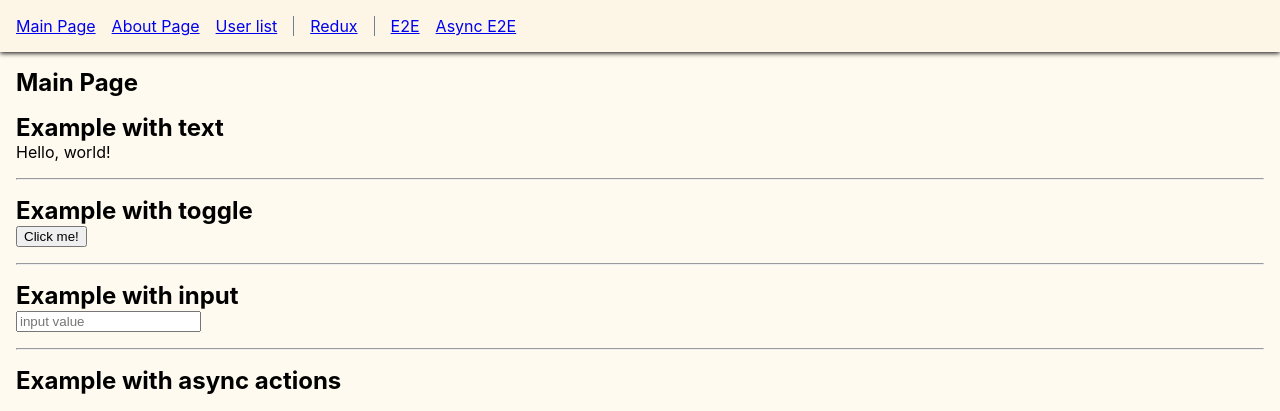
Test: Navbar tests :>> › Navigation to About Page
This screenshot has width=1280, height=411.
Click the link with test id "about-link" at (156, 26), box top-left (112, 16), bottom-right (200, 36)
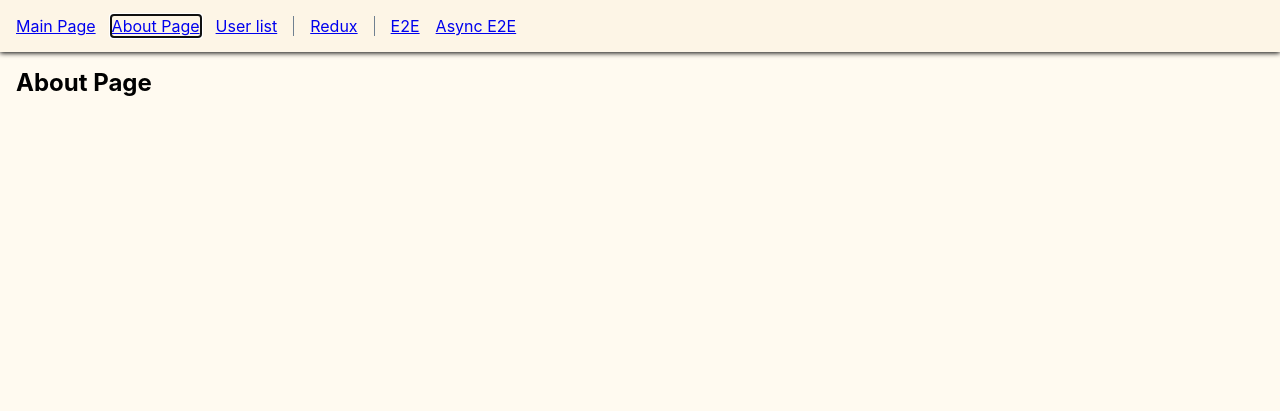
Check: the heading "About Page" is shown, box top-left (16, 68), bottom-right (152, 97)
